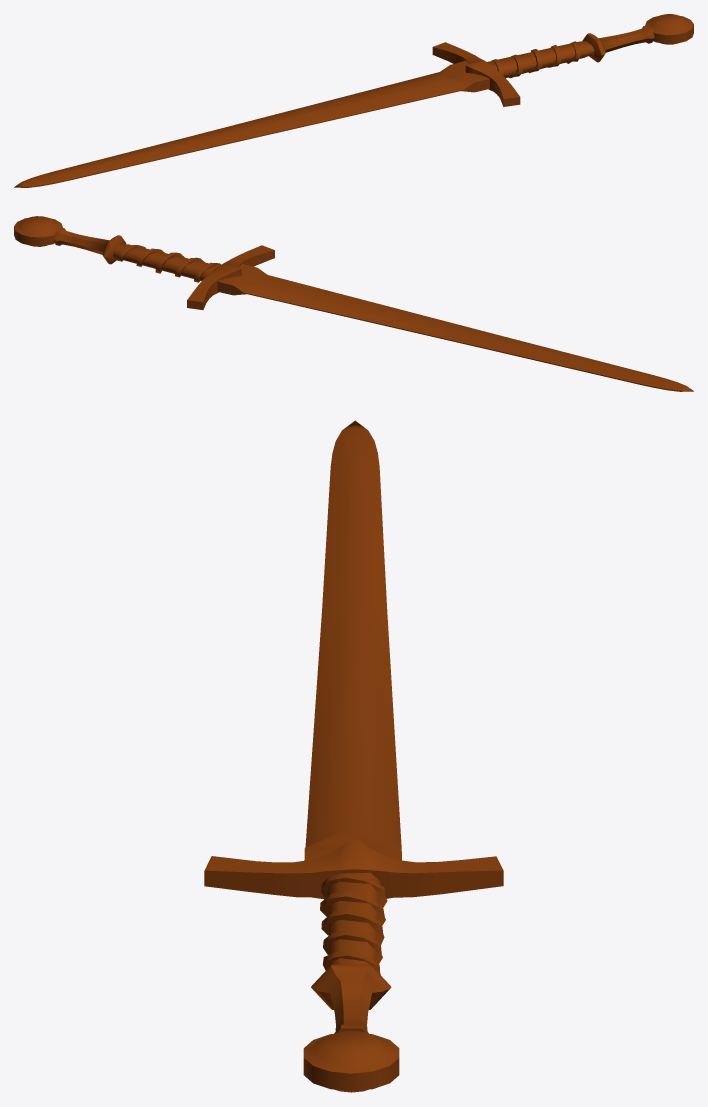
Rendered from Longsword.fbx.
The picture shows the model from 3 angles, top to bottom: view 1: azimuth 30°, elevation 25°; view 2: azimuth 150°, elevation 25°; view 3: azimuth 270°, elevation 25°; orthographic projection. The views are drawn at different scales.
Parts seen in each view (by area): view 1: Low; view 2: Low; view 3: Low.
Boxes of the visible parts, x1,y1,x2,y2 form: Low: [14, 14, 693, 187]; Low: [14, 216, 693, 391]; Low: [204, 420, 503, 1092].
Bounding box in the file's own units: 2 × 0.0705 × 0.3832.
